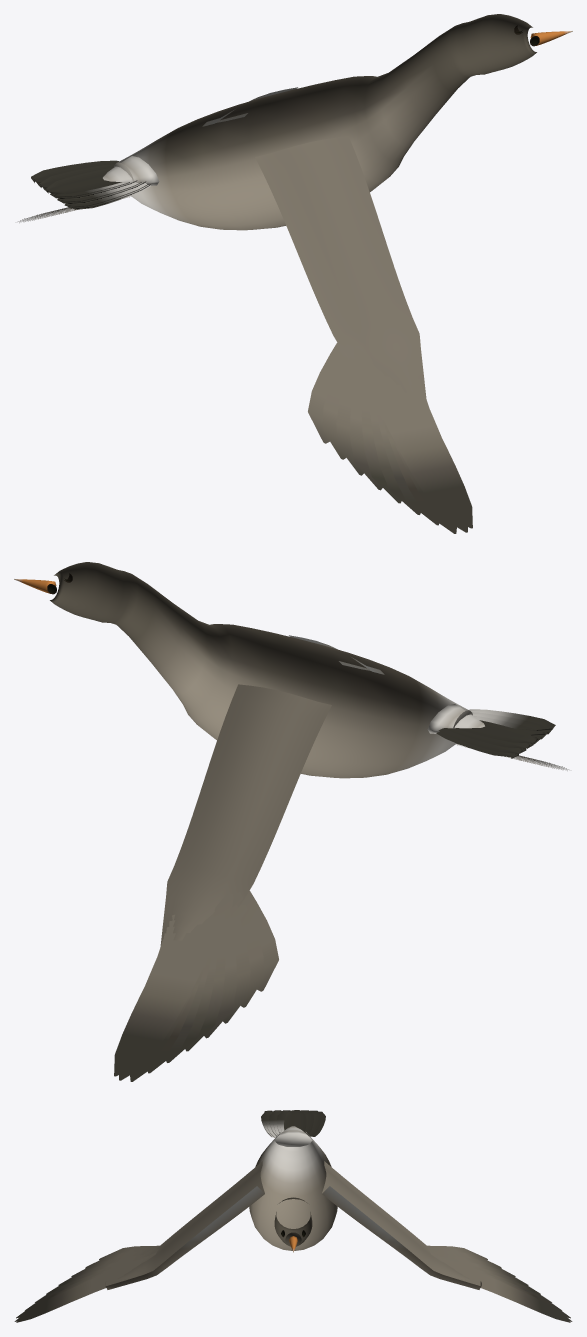
The model's file is SM_Bird_goose_flap2.glb.
The picture shows the model from 3 angles, top to bottom: view 1: azimuth 30°, elevation 25°; view 2: azimuth 150°, elevation 25°; view 3: azimuth 270°, elevation 25°; orthographic projection. The views are drawn at different scales.
Visible parts, largest first — view 1: SM_Bird_goose_flap2; view 2: SM_Bird_goose_flap2; view 3: SM_Bird_goose_flap2.
Part boxes in pixels (bbox=[...]): SM_Bird_goose_flap2: bbox=[18, 14, 572, 533]; SM_Bird_goose_flap2: bbox=[14, 562, 568, 1081]; SM_Bird_goose_flap2: bbox=[14, 1110, 572, 1322].
Size of the model in its own units: 0.876 by 0.4771 by 1.26.
